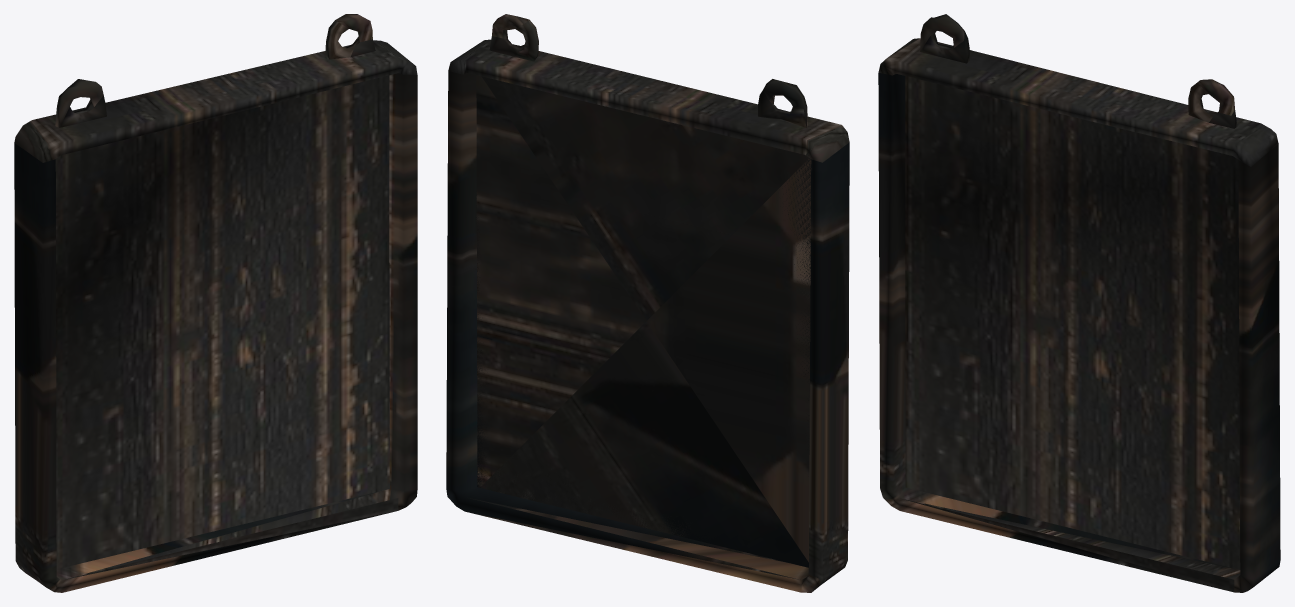
Rendered from hospital sign10.fbx.
The picture shows the model from 3 angles, left to right: view 1: azimuth 30°, elevation 25°; view 2: azimuth 150°, elevation 25°; view 3: azimuth 330°, elevation 25°; orthographic projection.
Parts seen in each view (by area): view 1: hospital sign10; view 2: hospital sign10; view 3: hospital sign10.
Boxes of the visible parts, x1,y1,x2,y2 form: hospital sign10: [14, 14, 417, 592]; hospital sign10: [446, 14, 849, 592]; hospital sign10: [878, 14, 1280, 592].
Bounding box in the file's own units: 328 × 413 × 43.41.
